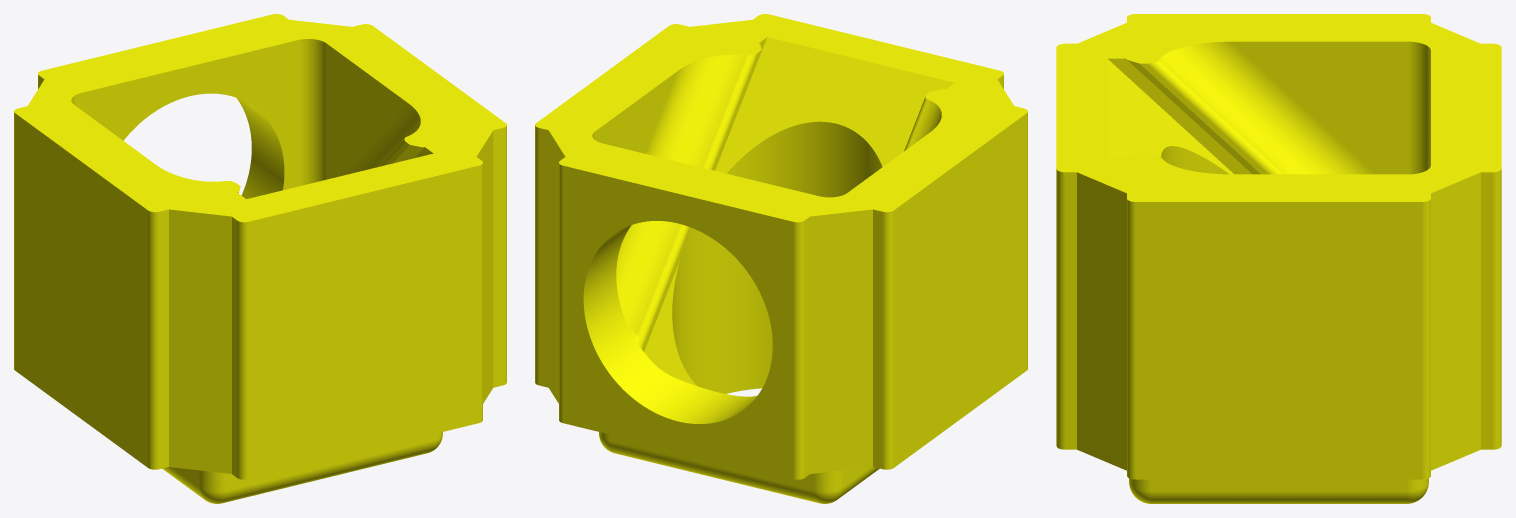
The model's file is Cube 1x1 V5_Dichroic Mirror Mount.obj.
3 views of the same model, side by side, from view 1: azimuth 30°, elevation 25°; view 2: azimuth 150°, elevation 25°; view 3: azimuth 270°, elevation 25° (orthographic). The views are drawn at different scales.
Visible parts, largest first — view 1: Solid1:27; view 2: Solid1:27; view 3: Solid1:27.
Boxes of the visible parts, <box> form: Solid1:27: <box>14,14,506,503</box>; Solid1:27: <box>535,14,1027,503</box>; Solid1:27: <box>1056,14,1501,503</box>.
Bounding box in the file's own units: 49.65 × 41.85 × 49.65.
